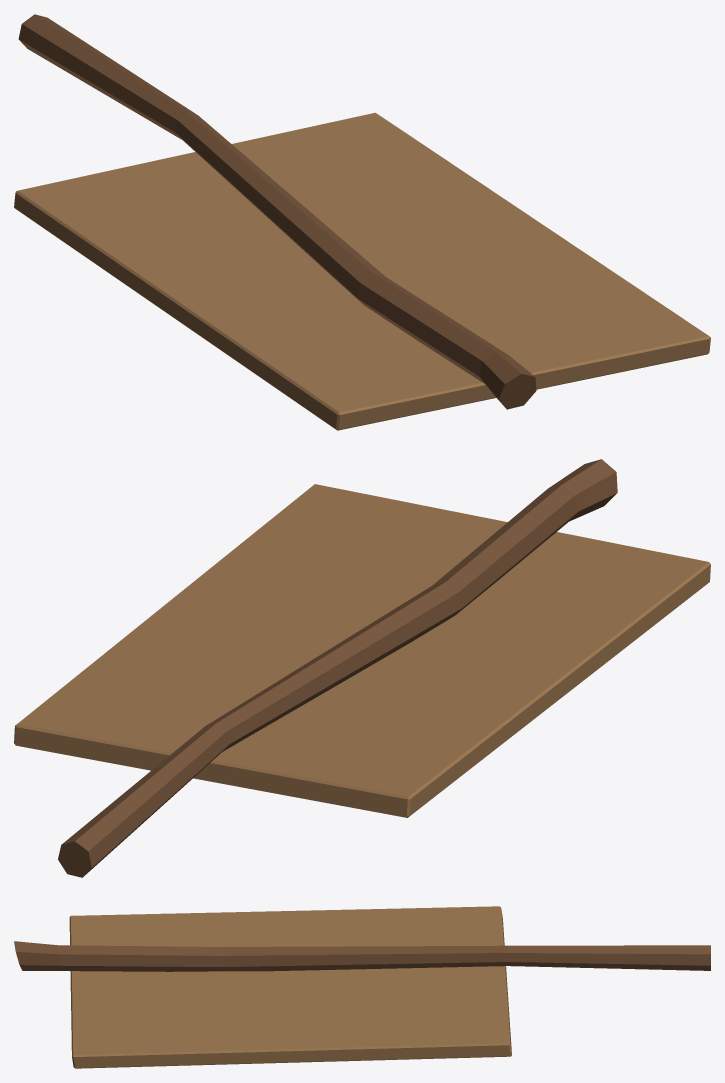
The model's file is Panel_02.fbx.
3 renders of one model, top to bottom at view 1: azimuth 30°, elevation 25°; view 2: azimuth 150°, elevation 25°; view 3: azimuth 270°, elevation 25°, orthographic. The views are drawn at different scales.
Visible parts, largest first — view 1: Poteau 1*1 long LOW.002; view 2: Poteau 1*1 long LOW.002; view 3: Poteau 1*1 long LOW.002.
Part boxes in pixels (x1=…): Poteau 1*1 long LOW.002: x1=14, y1=14, x2=710, y2=430; Poteau 1*1 long LOW.002: x1=14, y1=459, x2=710, y2=877; Poteau 1*1 long LOW.002: x1=14, y1=906, x2=710, y2=1068.
Size of the model in its own units: 74.38 by 12.56 by 161.
